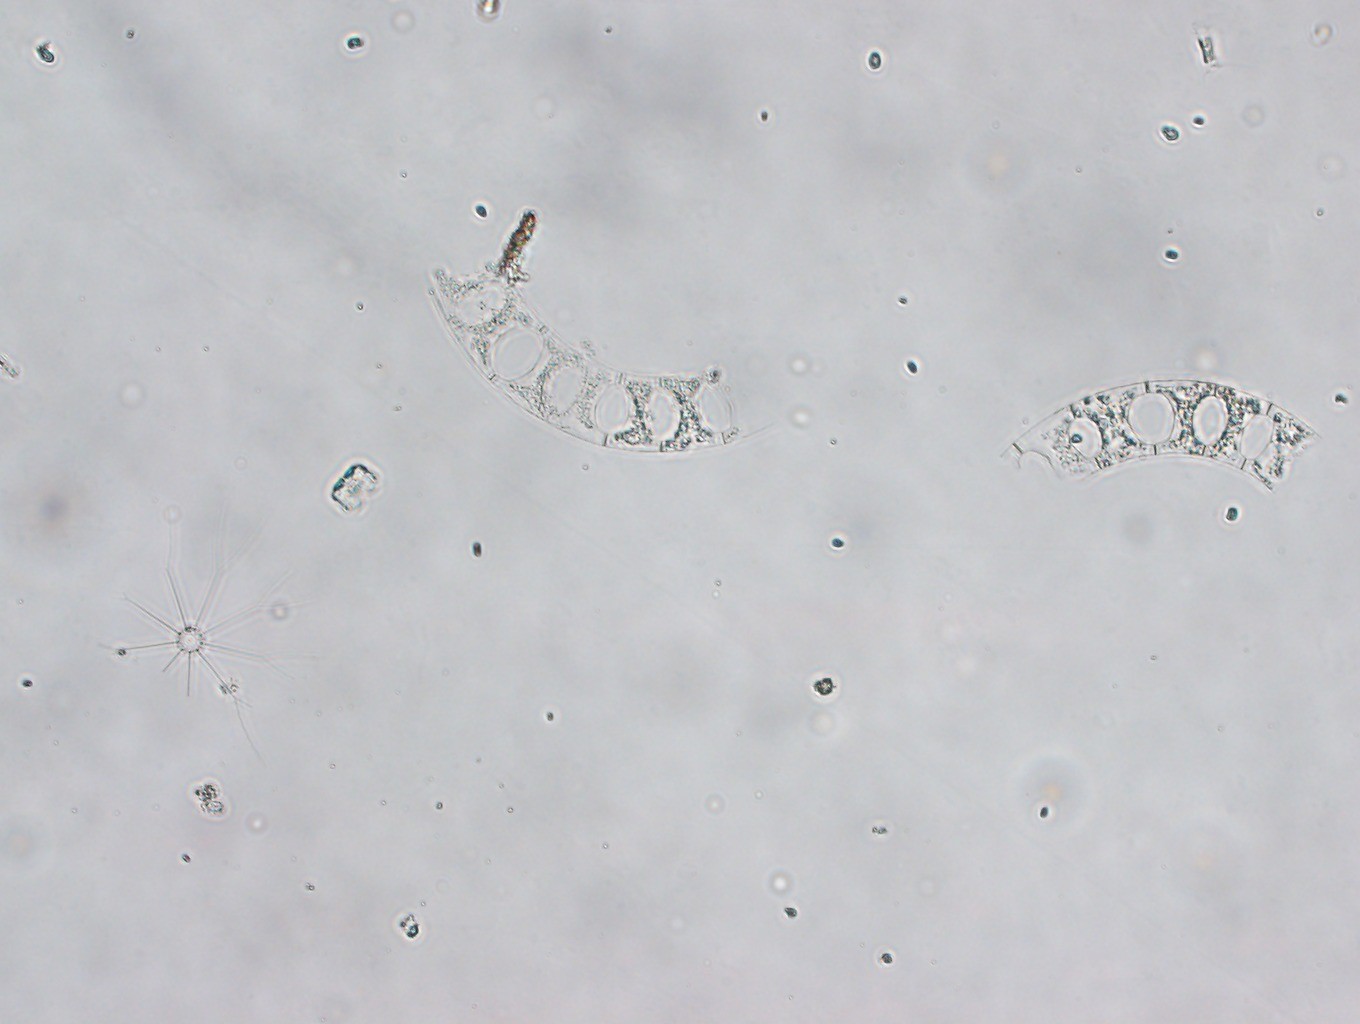bacteriastrum: (100, 512, 318, 766)
eucampia: (428, 264, 736, 453), (1003, 381, 1316, 487)
